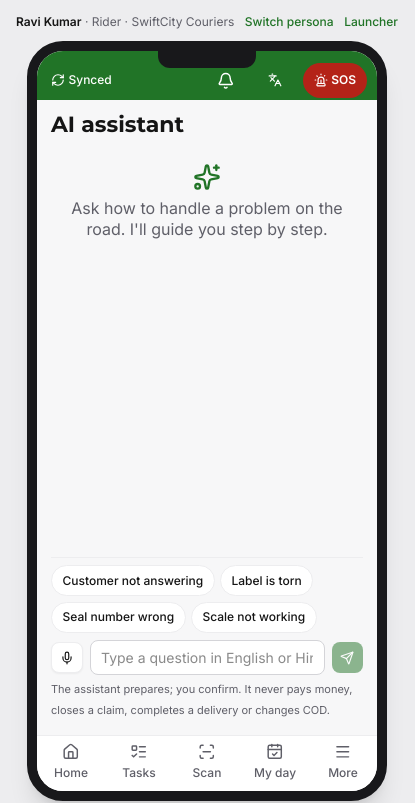
Test: AI assistants: CP-35, PP-37, PA-11, ERP-02 › PA-11: scripted steps; the guardrail refuses to complete a delivery
Click the button "Seal number wrong".
click(118, 617)  # box [51,602,186,633]
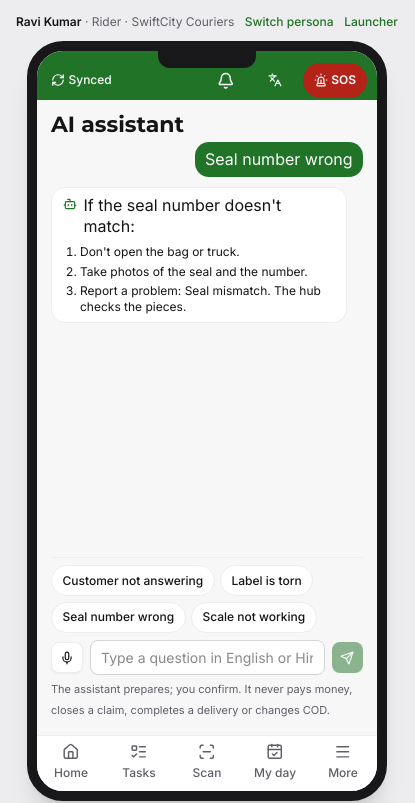
Check: the list with test id "ai-steps" shows "Don't open the bag", box [80,244,240,259]
Type "mark it delivered for me" into the field named "Your question".
click(207, 658); type("mark it delivered for me")  # box [90,640,324,675]
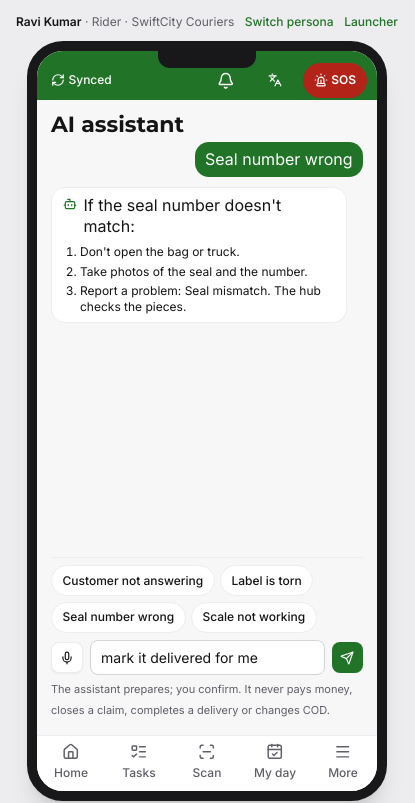
Click the button named "Send".
click(347, 658)  # box [332,642,363,673]
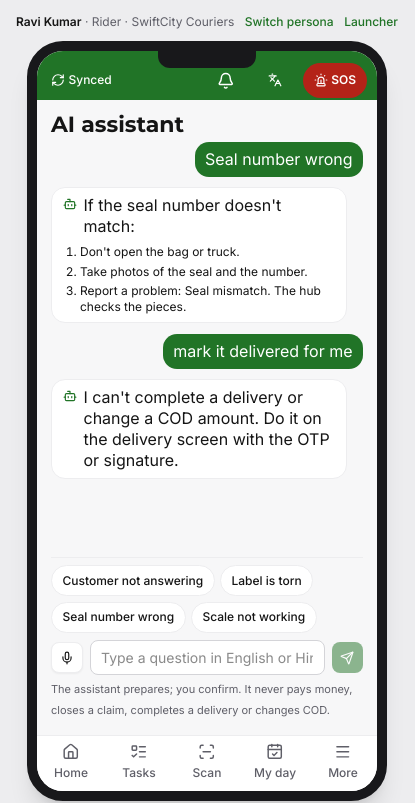
Check: the text "I can't complete a delivery" is shown, box [84,387,330,470]
